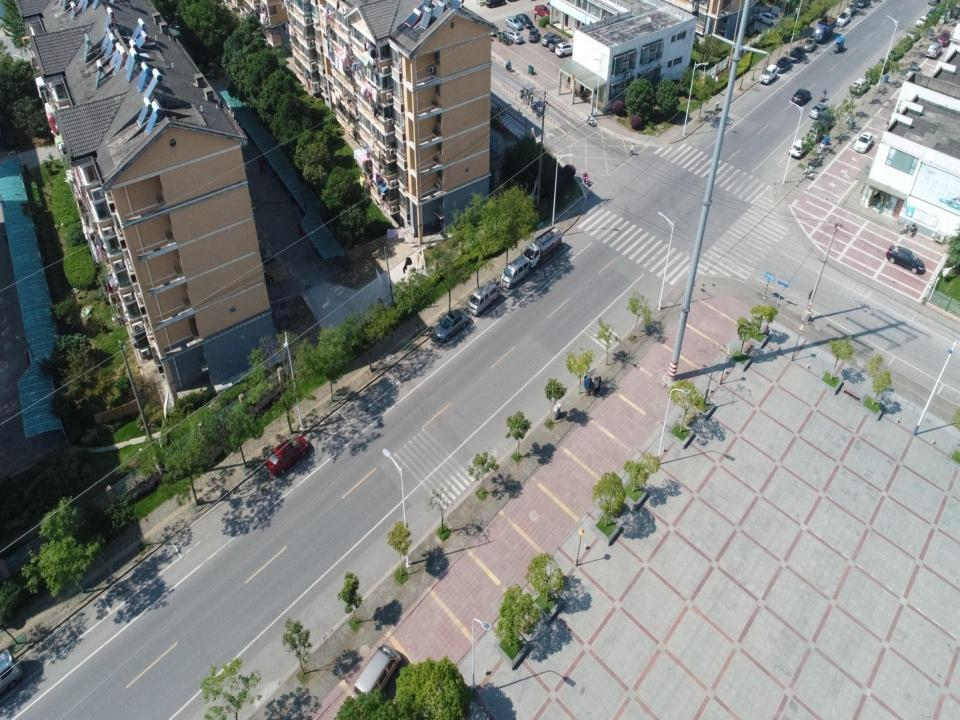car: (264, 433, 309, 477), (885, 243, 926, 277), (434, 308, 468, 342)
truck: (523, 226, 563, 268)
van: (354, 642, 402, 703), (467, 278, 498, 316), (500, 254, 530, 290)
